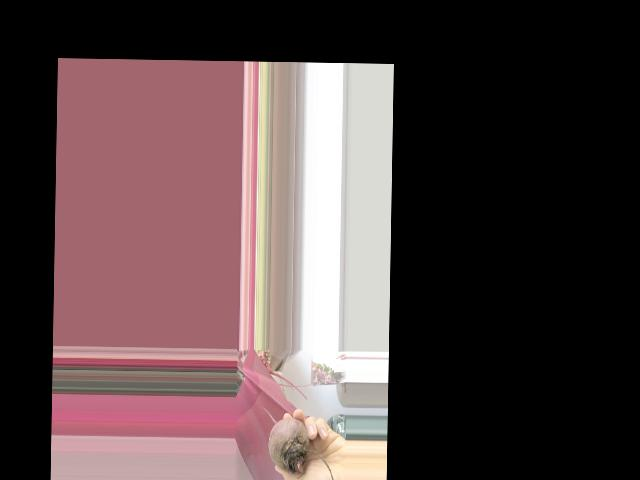beet: (260, 406, 338, 480)
